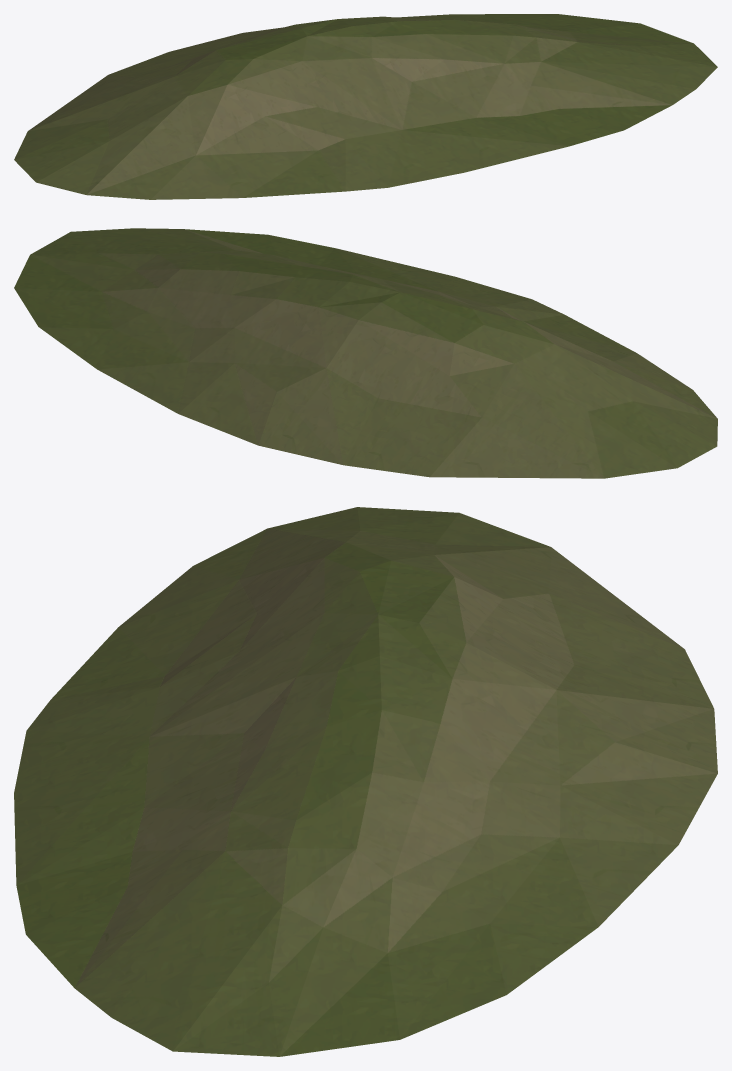
The model's file is SM_Env_Background_Hill_01_SM_Env_Background_Hill_01.glb.
3 views of the same model, one above another, from view 1: azimuth 30°, elevation 25°; view 2: azimuth 150°, elevation 25°; view 3: azimuth 270°, elevation 25° (orthographic). The views are drawn at different scales.
Parts seen in each view (by area): view 1: SM_Env_Background_Hill_01_SM_Env_Background_Hill_01; view 2: SM_Env_Background_Hill_01_SM_Env_Background_Hill_01; view 3: SM_Env_Background_Hill_01_SM_Env_Background_Hill_01.
Boxes of the visible parts, bbox=[...] form: SM_Env_Background_Hill_01_SM_Env_Background_Hill_01: bbox=[14, 14, 717, 199]; SM_Env_Background_Hill_01_SM_Env_Background_Hill_01: bbox=[14, 228, 717, 478]; SM_Env_Background_Hill_01_SM_Env_Background_Hill_01: bbox=[14, 507, 717, 1056].
Bounding box in the file's own units: 17.27 × 1.93 × 9.34.
Materials: 1 (1 with a texture image).
